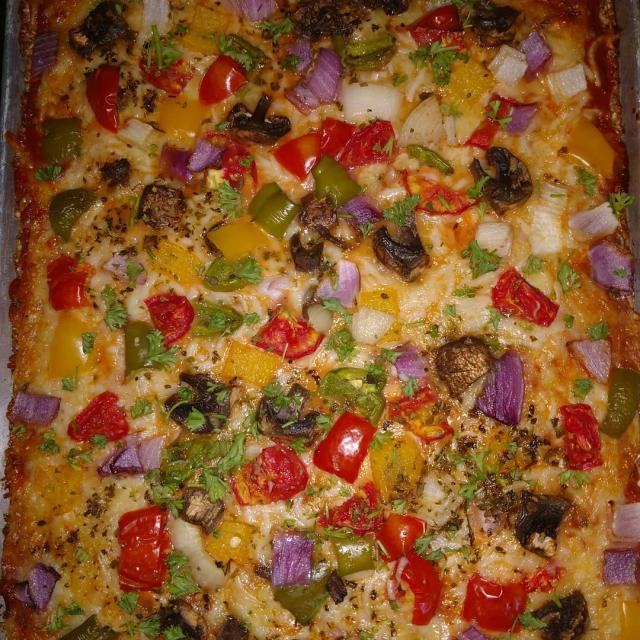mushrooms: (465, 483, 559, 565), (470, 142, 541, 217), (252, 383, 321, 456), (163, 371, 236, 432), (225, 95, 296, 147), (428, 331, 488, 390), (366, 232, 432, 285), (75, 6, 138, 57), (140, 175, 193, 235), (174, 479, 224, 533), (536, 590, 587, 634), (153, 600, 214, 634)
peppers: (112, 502, 176, 594), (494, 271, 571, 331), (234, 441, 308, 502), (316, 412, 376, 482), (66, 390, 134, 451), (396, 551, 446, 630), (463, 569, 525, 629), (558, 399, 608, 473), (220, 337, 292, 387), (318, 117, 396, 162), (198, 520, 266, 570), (45, 311, 103, 369), (334, 24, 396, 76), (256, 312, 328, 356), (308, 155, 370, 206), (85, 64, 130, 134), (370, 432, 421, 492), (394, 390, 452, 442), (210, 214, 274, 260), (220, 26, 276, 76), (251, 184, 301, 238), (472, 95, 522, 148), (39, 115, 87, 168), (422, 6, 470, 58), (604, 364, 640, 432), (330, 525, 372, 581), (50, 182, 90, 239), (196, 297, 250, 339), (380, 512, 427, 559), (192, 54, 239, 101), (51, 258, 94, 306), (148, 292, 186, 344), (274, 131, 318, 174), (284, 578, 328, 614), (209, 258, 251, 287)
pizza: (0, 0, 640, 640)
